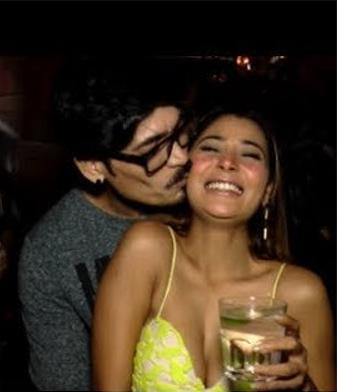Drunk: (187, 119, 270, 221), (122, 110, 190, 204)
